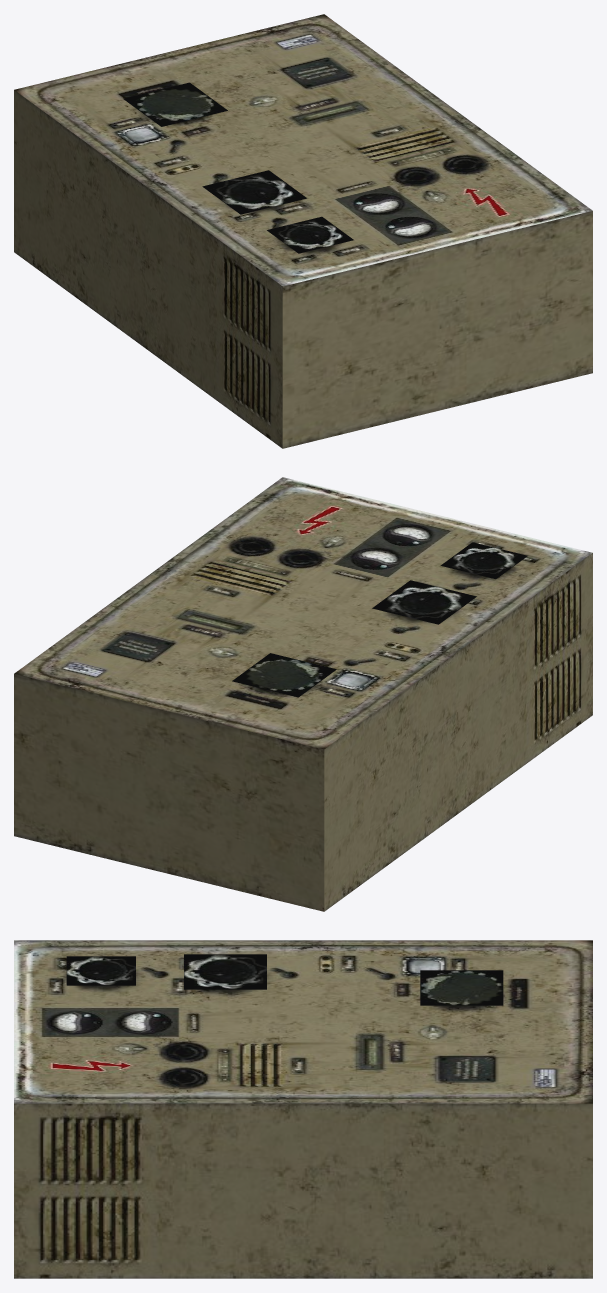
The model's file is military_german_radio1_tan.glb.
3 renders of one model, top to bottom at view 1: azimuth 30°, elevation 25°; view 2: azimuth 150°, elevation 25°; view 3: azimuth 270°, elevation 25°, orthographic. The views are drawn at different scales.
Bounding box in the file's own units: 24.43 × 12.59 × 36.64.
Materials: 3 (3 with a texture image).
